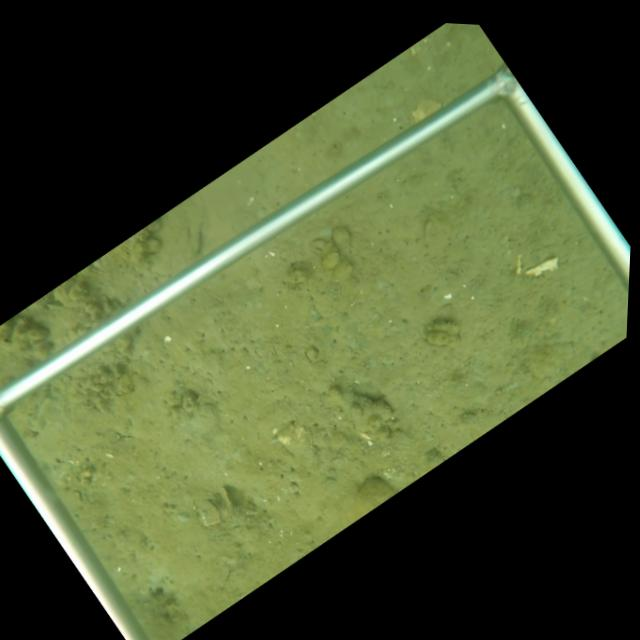Oyster-Closed: (219, 484, 238, 514)
Oyster-Indeterminate: (316, 387, 396, 442)
